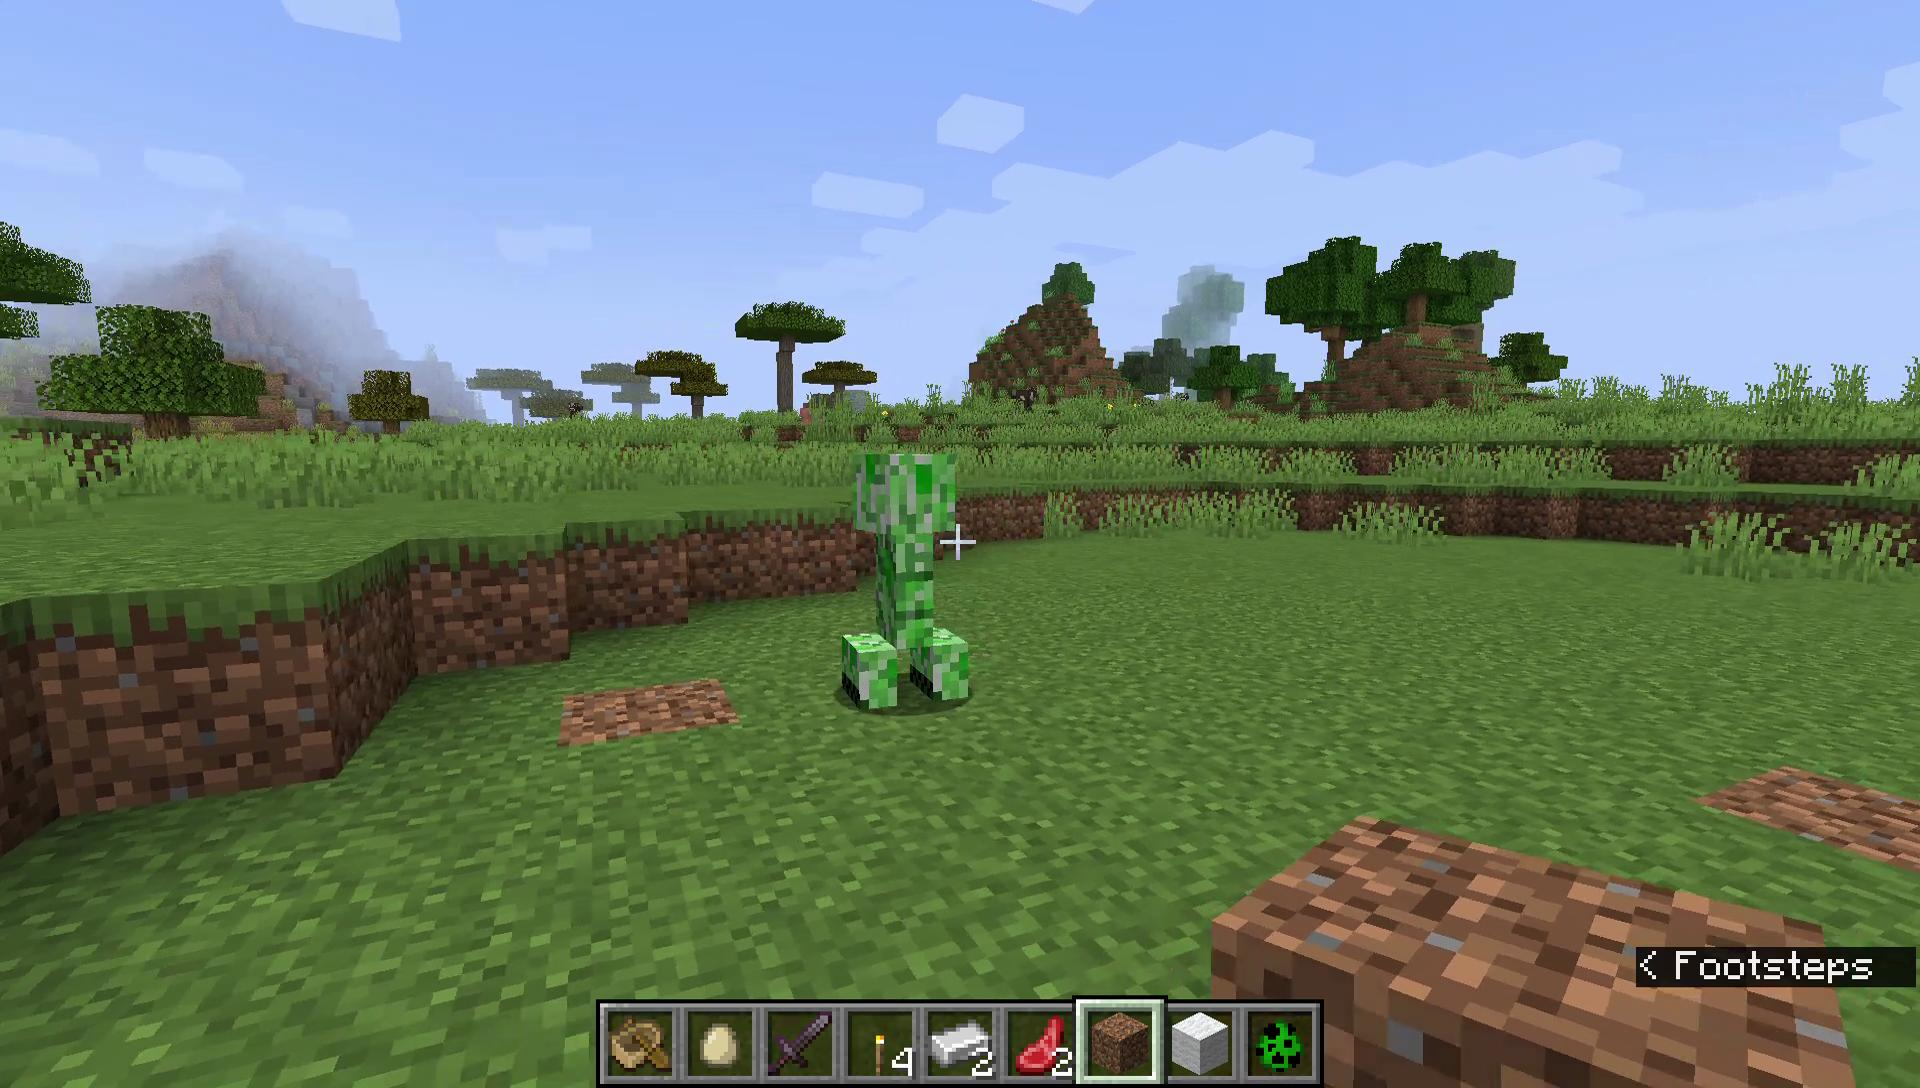creeper: (839, 440, 977, 716)
